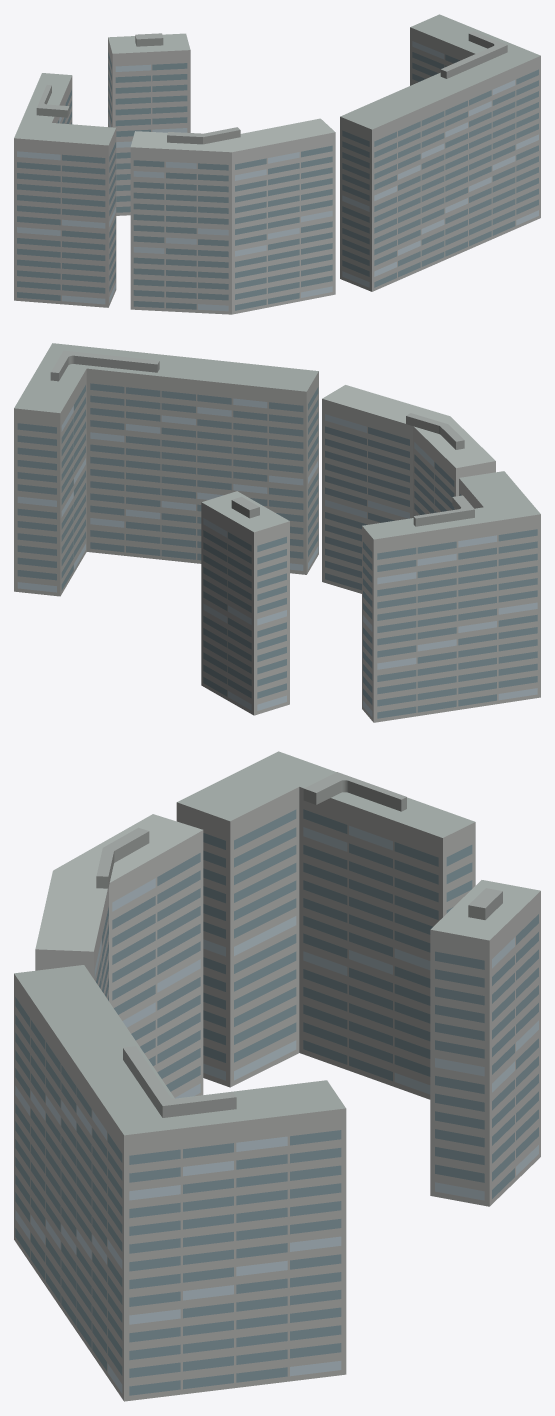
Rendered from apt-a12293002.glb.
3 renders of one model, top to bottom at view 1: azimuth 30°, elevation 25°; view 2: azimuth 150°, elevation 25°; view 3: azimuth 270°, elevation 25°, orthographic. The views are drawn at different scales.
Parts seen in each view (by area): view 1: apt-a12293002; view 2: apt-a12293002; view 3: apt-a12293002.
Part boxes in pixels (bbox=[...]): apt-a12293002: bbox=[14, 14, 540, 314]; apt-a12293002: bbox=[14, 343, 540, 722]; apt-a12293002: bbox=[14, 751, 540, 1401].
Size of the model in its own units: 142 by 47.81 by 82.08.
